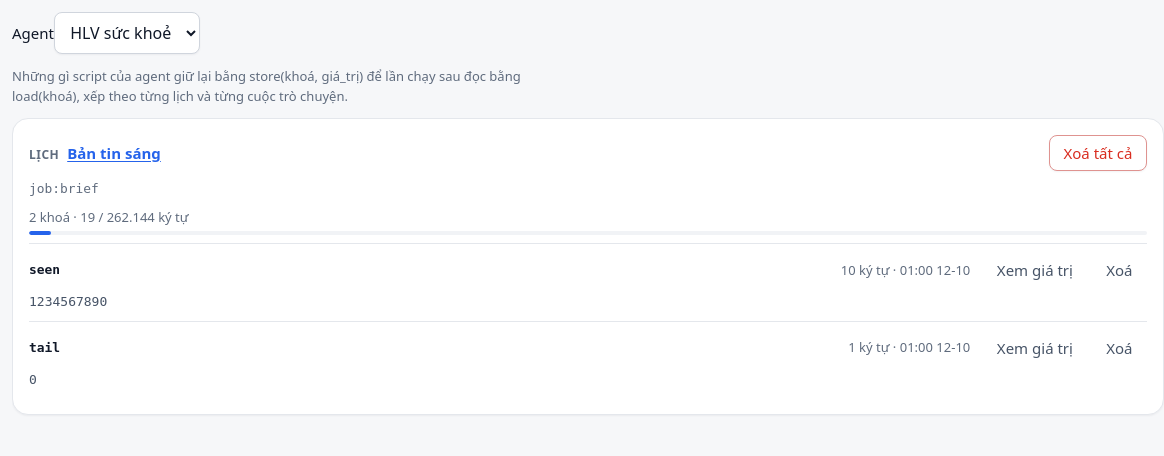
two reads of one key's value under way at once › fill nothing once the person has closed the box again
What coordinates should you click on to do the following:
click the button "Xem giá trị" in the row of "10 ký tự"
I would click on:
 (1035, 270)
Its box is [982, 252, 1088, 288].
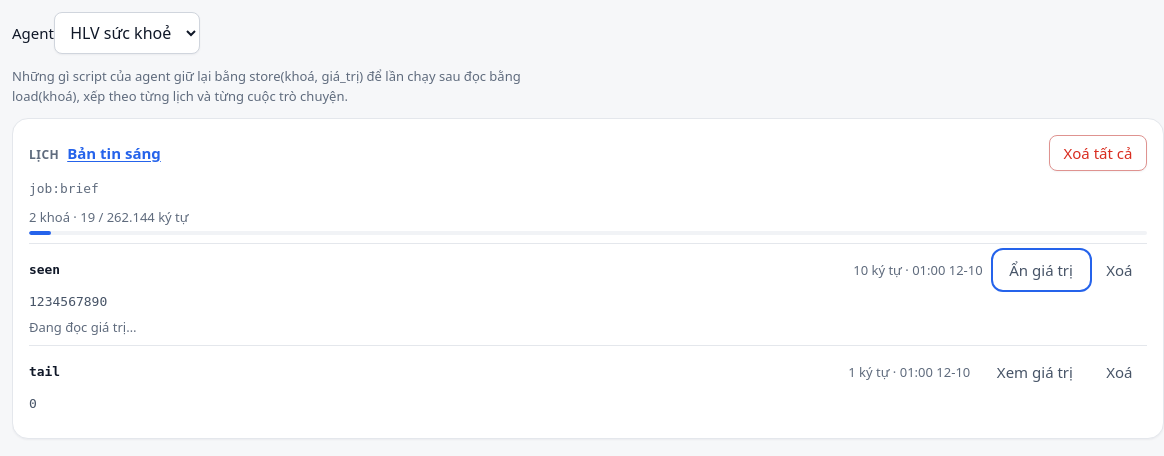
What coordinates should you click on to do the following:
click the button "Ẩn giá trị"
I would click on:
 (1041, 270)
Its box is [995, 252, 1088, 288].
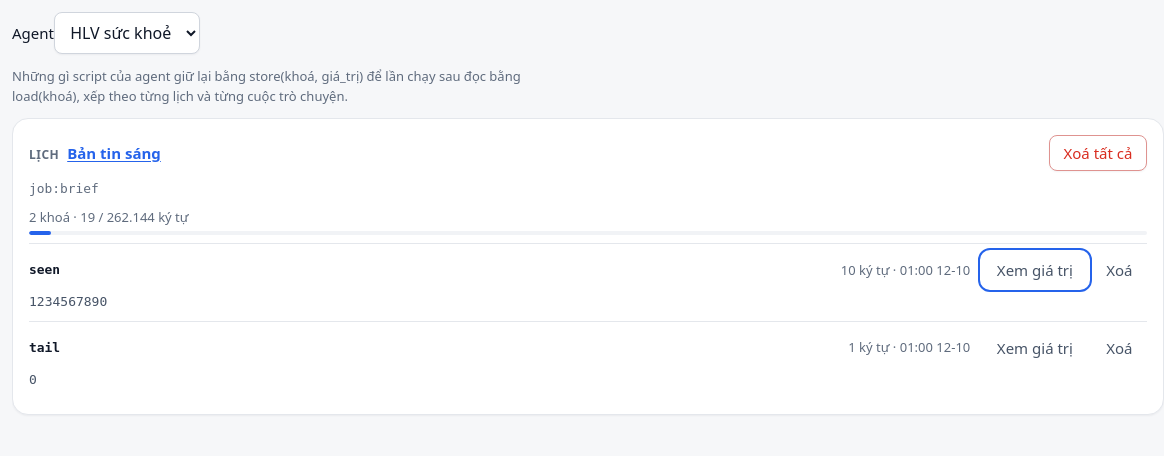
What coordinates should you click on to do the following:
click the button "Xem giá trị" in the row of "10 ký tự"
I would click on:
 (1035, 270)
Its box is [982, 252, 1088, 288].
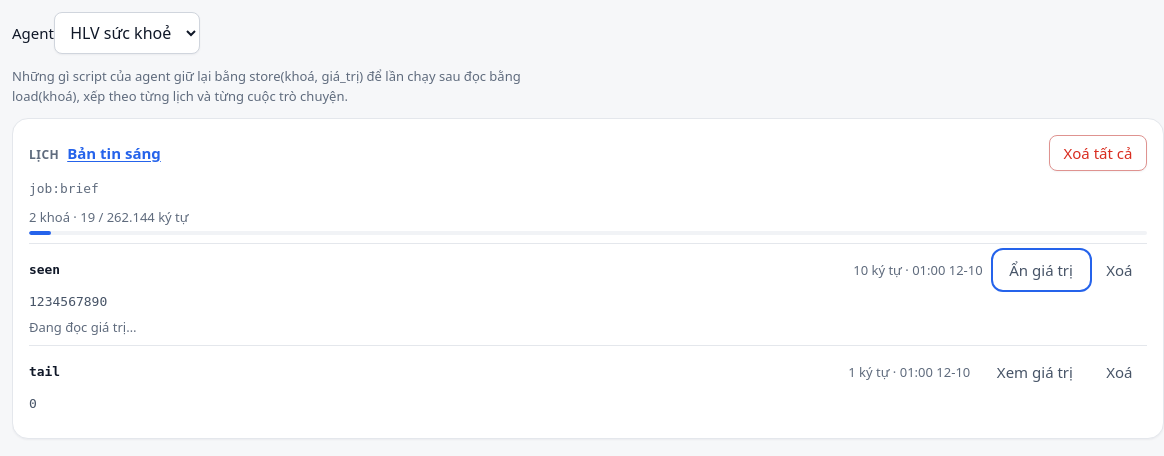
Now the text "Đang đọc giá trị…" is shown, box [29, 318, 136, 336]
What coordinates should you click on to do the following:
click the button "Ẩn giá trị"
I would click on:
 (1041, 270)
Its box is [995, 252, 1088, 288].
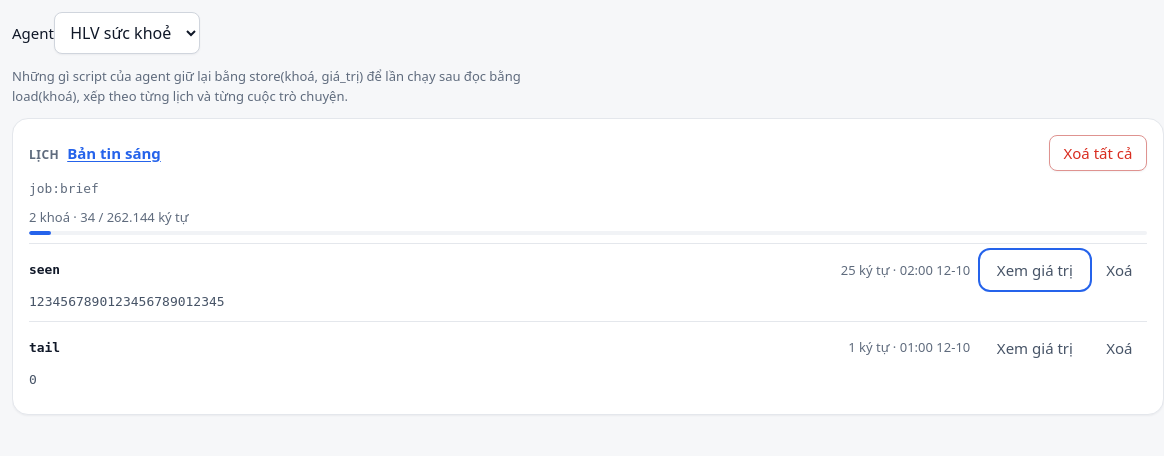
Now the text "Đang đọc giá trị…" is gone
